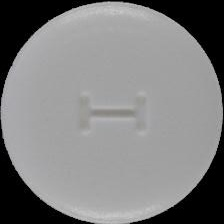31722-829: (0, 0, 224, 224)
